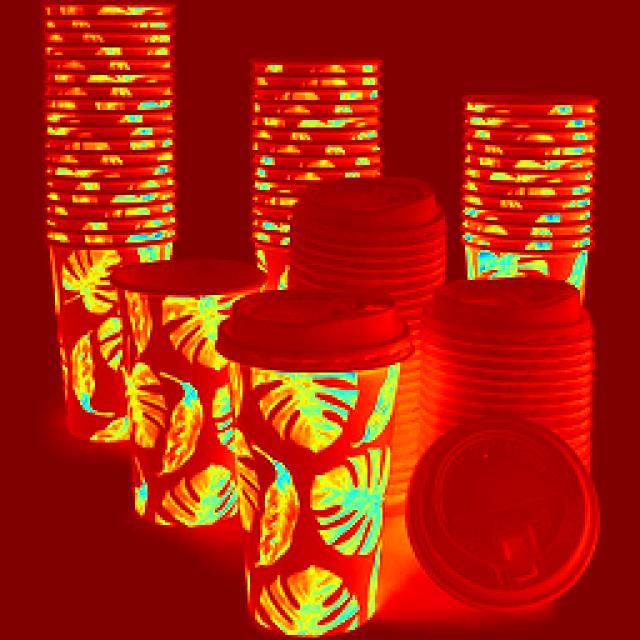Paper Cups: (18, 1, 181, 407), (428, 273, 598, 625), (220, 298, 383, 638), (221, 32, 392, 251), (103, 264, 237, 539), (455, 73, 589, 280), (284, 174, 456, 303)
